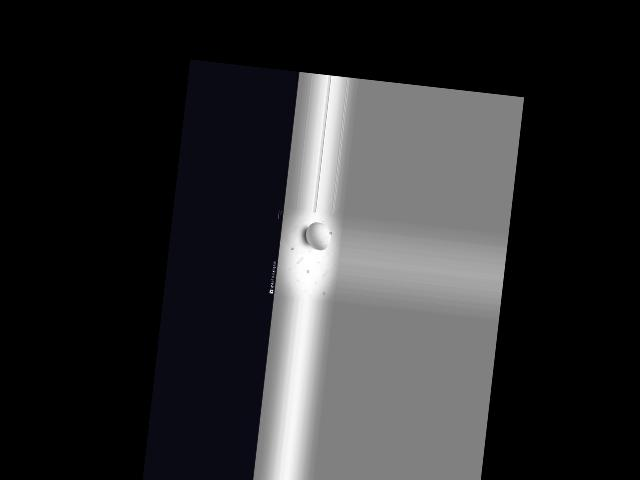egg: (303, 220, 331, 250)
